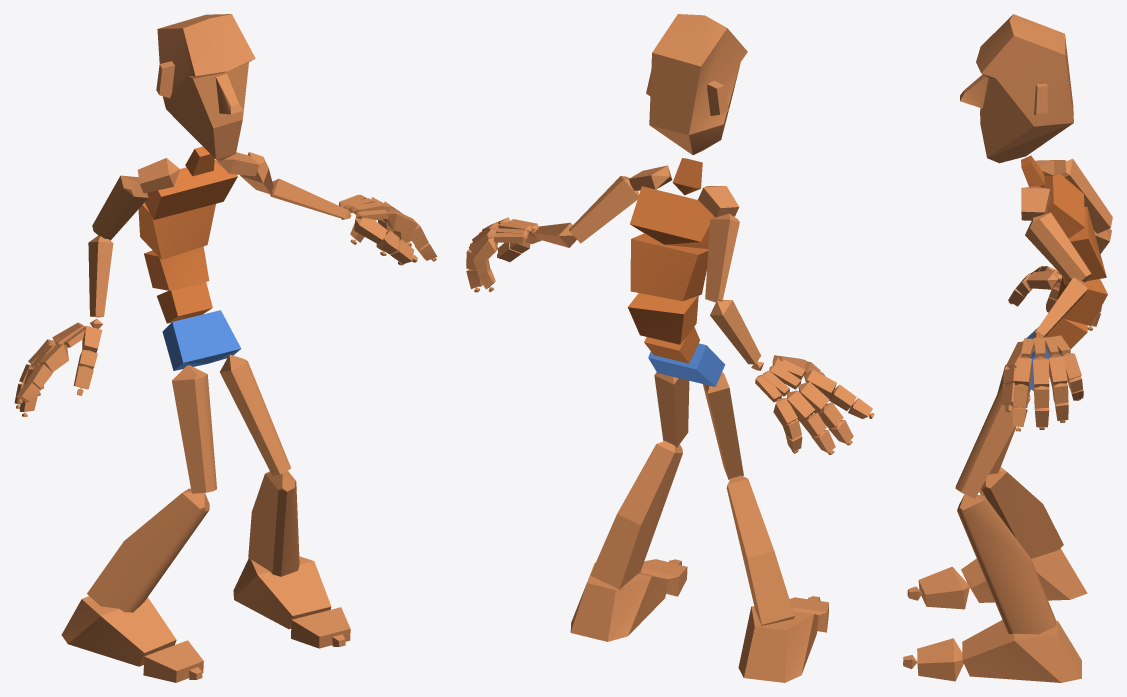
File: prueba27.obj
The picture shows the model from 3 angles, left to right: view 1: azimuth 30°, elevation 25°; view 2: azimuth 150°, elevation 25°; view 3: azimuth 270°, elevation 25°; orthographic projection.
Parts seen in each view (by area): view 1: BOPED_Head, BOPED_R_leg, BOPED_R_foot, BOPED_L_leg, BOPED_R_foot01, BOPED_R_legup, BOPED_L_legup, Bone01, Bone04, Bone05, Bone03, BOPED_R_arm_upper (+8 smaller); view 2: BOPED_Head, BOPED_L_leg, BOPED_R_leg, BOPED_R_foot01, BOPED_R_foot, Bone04, Bone05, Bone03, BOPED_R_legup, BOPED_R_arm_upper, BOPED_L_legup, BOPED_L_arm_upper (+9 smaller); view 3: BOPED_Head, BOPED_L_leg, BOPED_R_foot01, BOPED_R_leg, BOPED_L_legup, BOPED_R_foot, BOPED_L_arm_upper, Bone05, BOPED_R_foot_toe01, BOPED_R_foot_toe04, BOPED_R_arm_upper, Bone04 (+14 smaller).
Part boxes in pixels (left/top/right/bottom): BOPED_Head: left=156, top=14, right=255, bottom=160; BOPED_R_leg: left=87, top=488, right=209, bottom=612; BOPED_R_foot: left=61, top=596, right=176, bottom=666; BOPED_L_leg: left=248, top=471, right=299, bottom=576; BOPED_R_foot01: left=233, top=556, right=331, bottom=629; BOPED_R_legup: left=172, top=365, right=216, bottom=493; BOPED_L_legup: left=220, top=354, right=290, bottom=475; Bone01: left=162, top=310, right=241, bottom=370; Bone04: left=138, top=202, right=215, bottom=259; Bone05: left=145, top=159, right=237, bottom=219; Bone03: left=144, top=246, right=209, bottom=290; BOPED_R_arm_upper: left=92, top=175, right=148, bottom=240; BOPED_Head: left=646, top=14, right=747, bottom=154; BOPED_L_leg: left=590, top=441, right=682, bottom=589; BOPED_R_leg: left=726, top=475, right=794, bottom=625; BOPED_R_foot01: left=570, top=562, right=668, bottom=641; BOPED_R_foot: left=738, top=606, right=818, bottom=682; Bone04: left=630, top=233, right=708, bottom=301; Bone05: left=630, top=186, right=715, bottom=248; Bone03: left=627, top=293, right=698, bottom=344; BOPED_R_legup: left=703, top=372, right=743, bottom=479; BOPED_R_arm_upper: left=705, top=213, right=739, bottom=302; BOPED_L_legup: left=654, top=372, right=689, bottom=447; BOPED_L_arm_upper: left=569, top=176, right=639, bottom=243; BOPED_Head: left=960, top=14, right=1073, bottom=163; BOPED_L_leg: left=957, top=494, right=1056, bottom=634; BOPED_R_foot01: left=962, top=620, right=1081, bottom=682; BOPED_R_leg: left=979, top=467, right=1063, bottom=558; BOPED_L_legup: left=955, top=382, right=1030, bottom=498; BOPED_R_foot: left=961, top=548, right=1087, bottom=602; BOPED_L_arm_upper: left=1025, top=212, right=1091, bottom=282; Bone05: left=1043, top=174, right=1084, bottom=238; BOPED_R_foot_toe01: left=918, top=566, right=969, bottom=609; BOPED_R_foot_toe04: left=917, top=638, right=963, bottom=681; BOPED_R_arm_upper: left=1061, top=158, right=1112, bottom=233; Bone04: left=1062, top=206, right=1106, bottom=284.
Size of the model in its own units: 130 by 186 by 57.82.
